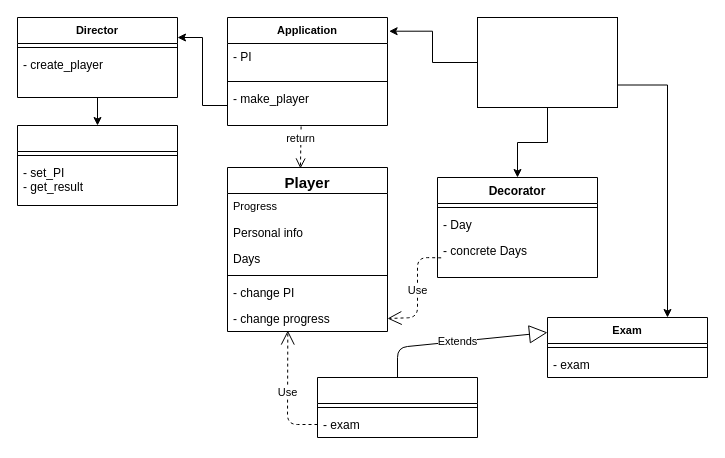
The diagram is 725 pixels wide and 458 high, and some of its shapes have lost their labels. The shapes that lost their labels are listed below. From the top down, each one's box as (x1, y1, x2, y2) in pixels, then its label:
(476, 16, 618, 108): «interface» Game
(16, 124, 178, 206): Builder
(316, 376, 478, 438): Concrete_exam
